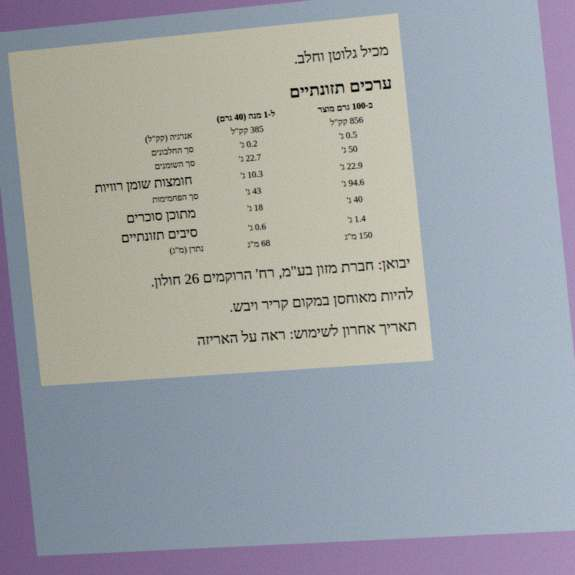carbs: (340, 176, 366, 190)
energy: (328, 114, 365, 129)
fat: (340, 143, 359, 156)
protein: (337, 129, 359, 142)
